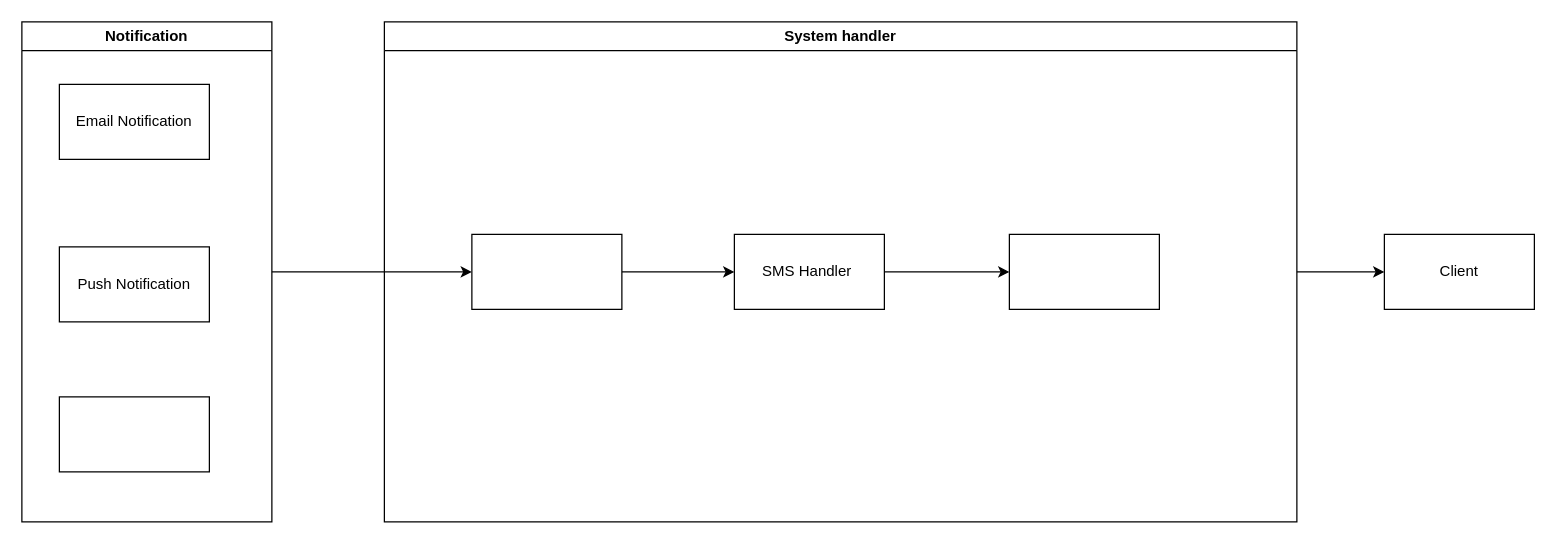
Image size: 1556x544. Some labels were removed from this diagram. Here are the shapes that lost their labels. From the top down, the centre of each, then its label:
At (x=546, y=271): "Email Handler".
At (x=1083, y=271): "Push Handler".
At (x=133, y=434): "Sms Notification".
